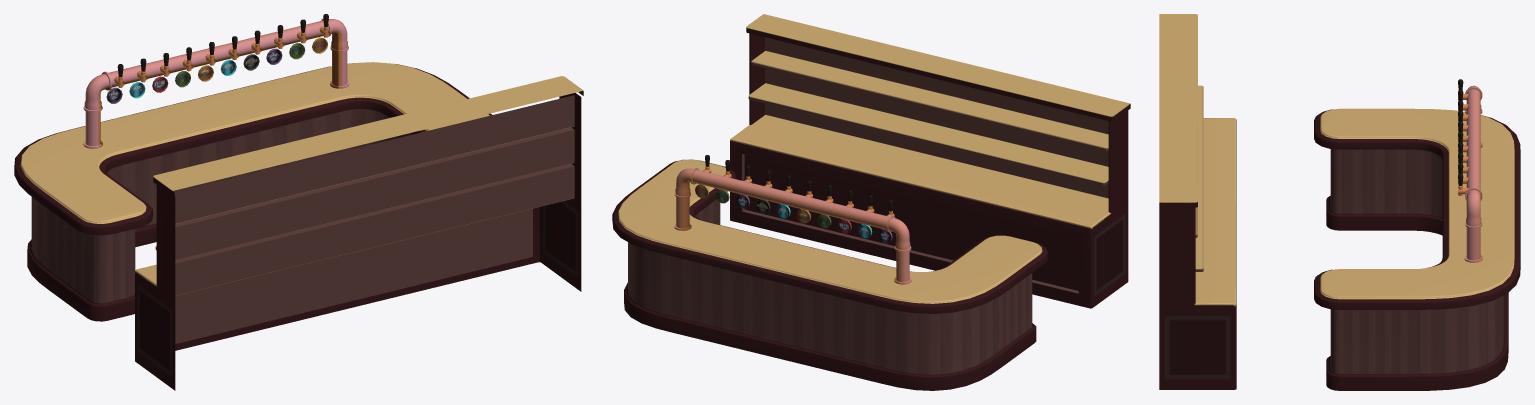
File: Barnaya stoyka.fbx
The picture shows the model from 3 angles, left to right: view 1: azimuth 30°, elevation 25°; view 2: azimuth 150°, elevation 25°; view 3: azimuth 270°, elevation 25°; orthographic projection. The views are drawn at different scales.
Parts seen in each view (by area): view 1: stoyka, polySurface45; view 2: stoyka, polySurface45; view 3: polySurface45, stoyka.
Boxes of the visible parts, <box> form: stoyka: <box>135,76,583,390</box>; polySurface45: <box>14,14,491,321</box>; stoyka: <box>730,14,1130,308</box>; polySurface45: <box>612,155,1048,390</box>; polySurface45: <box>1314,79,1520,390</box>; stoyka: <box>1159,14,1236,389</box>.
Size of the model in its own units: 3.05 by 1.39 by 2.41.
